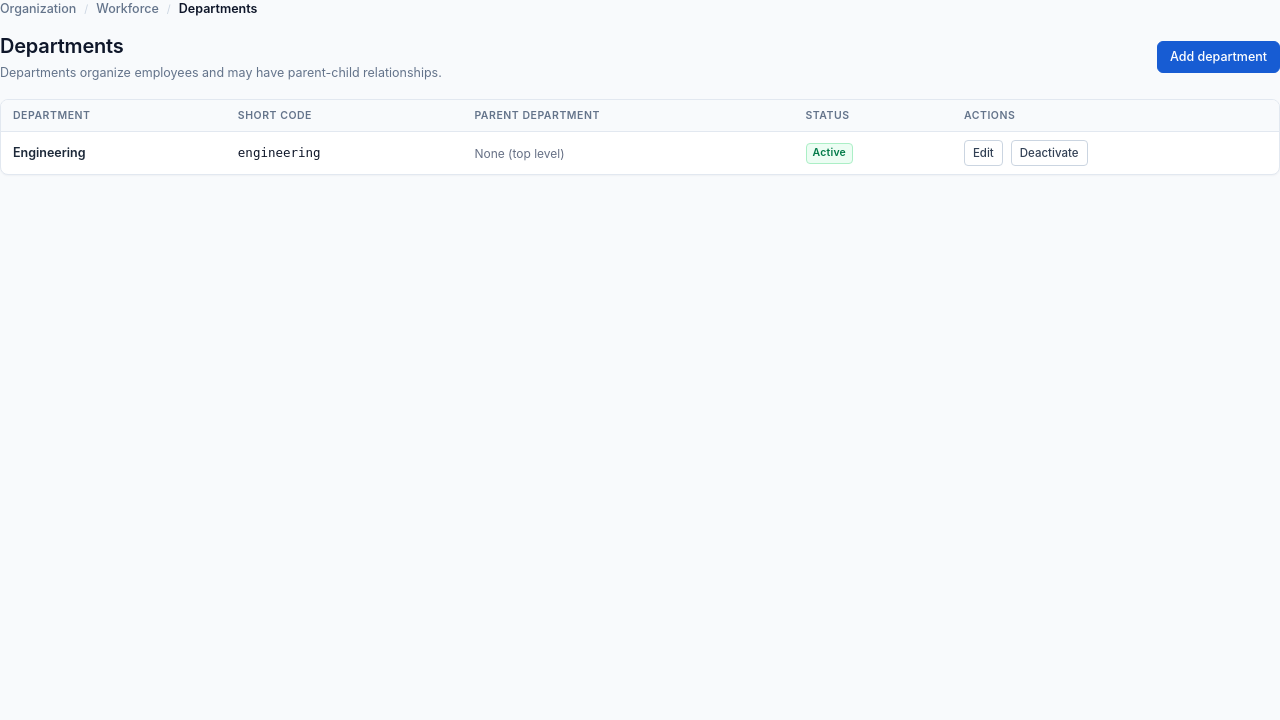
departments page › creates a department with auto-generated short code and optional parent
Check: the heading "Departments" is shown, box [0, 34, 124, 58]
Click the button "Add department": (1218, 57) [1157, 41, 1279, 73]
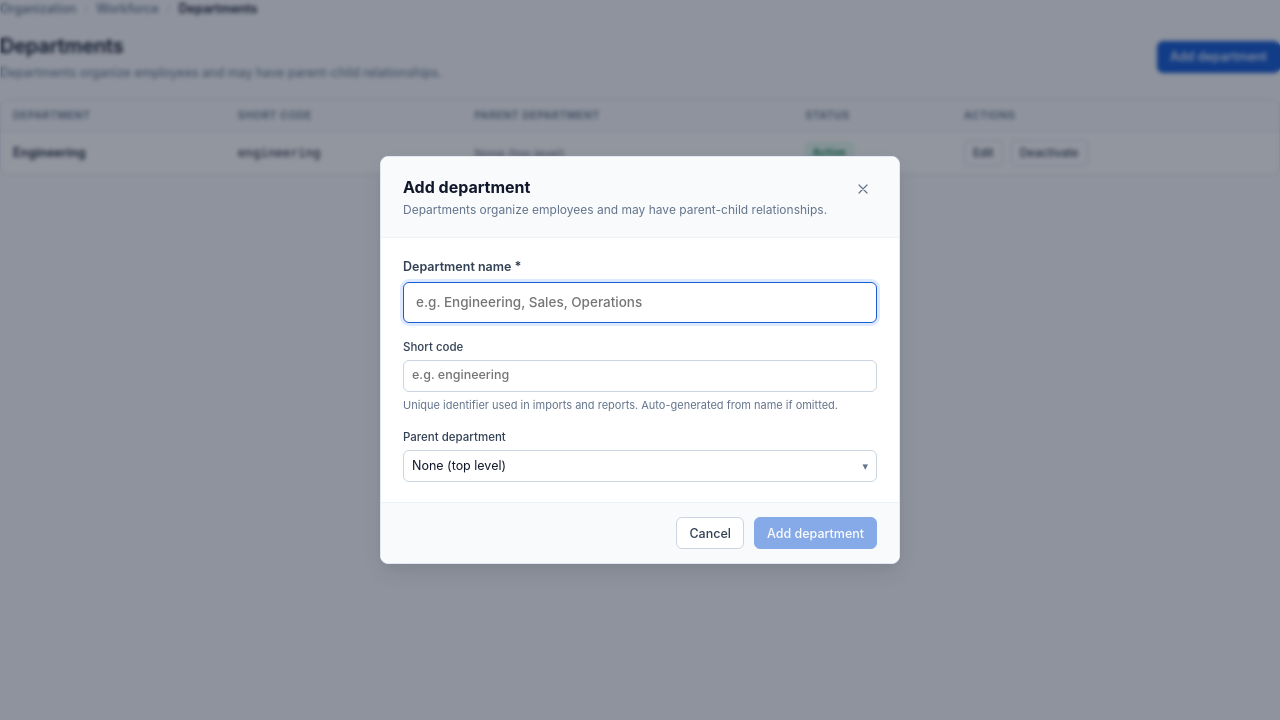
Check: the dialog is shown, box [380, 156, 900, 564]
Check: the heading "Add department" is shown, box [403, 176, 530, 196]
In the field labelled "Department name *": (640, 302) [403, 282, 877, 323], type "Quality Assurance"
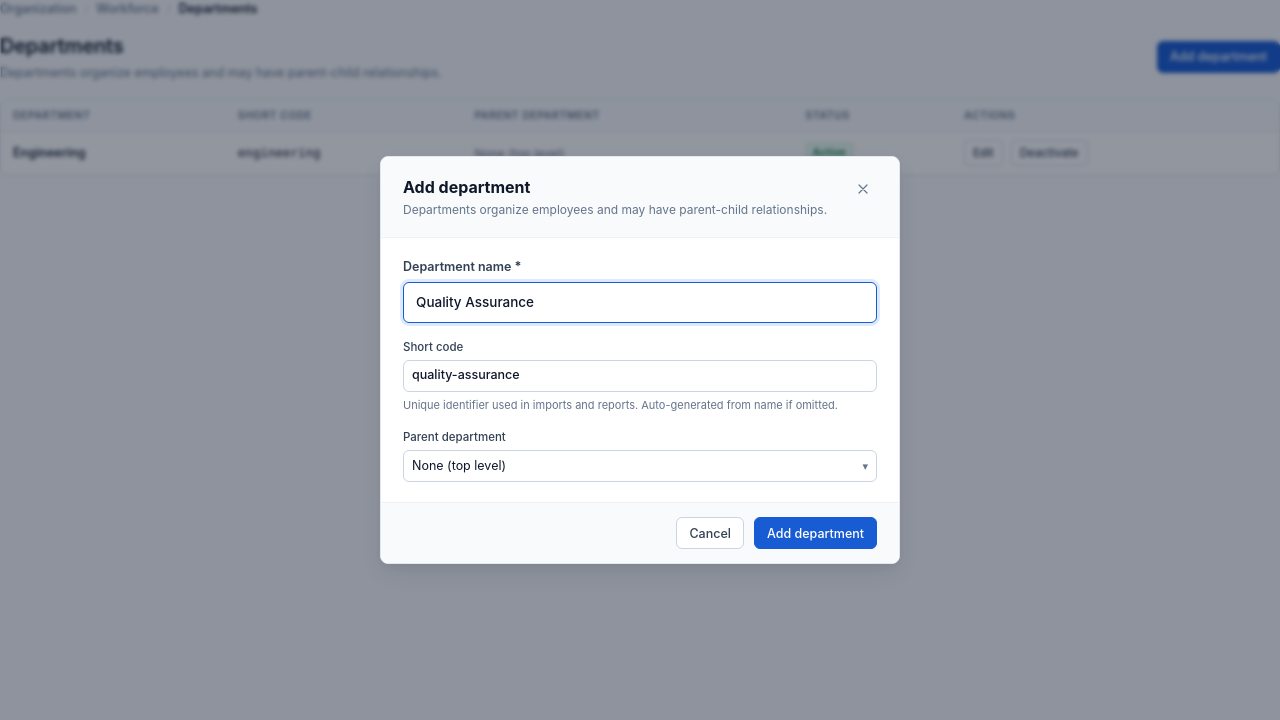
Check: the field labelled "Short code" holds "quality-assurance", box [403, 360, 877, 392]
Click the dropdown named "Parent department": (459, 466) [403, 450, 877, 482]
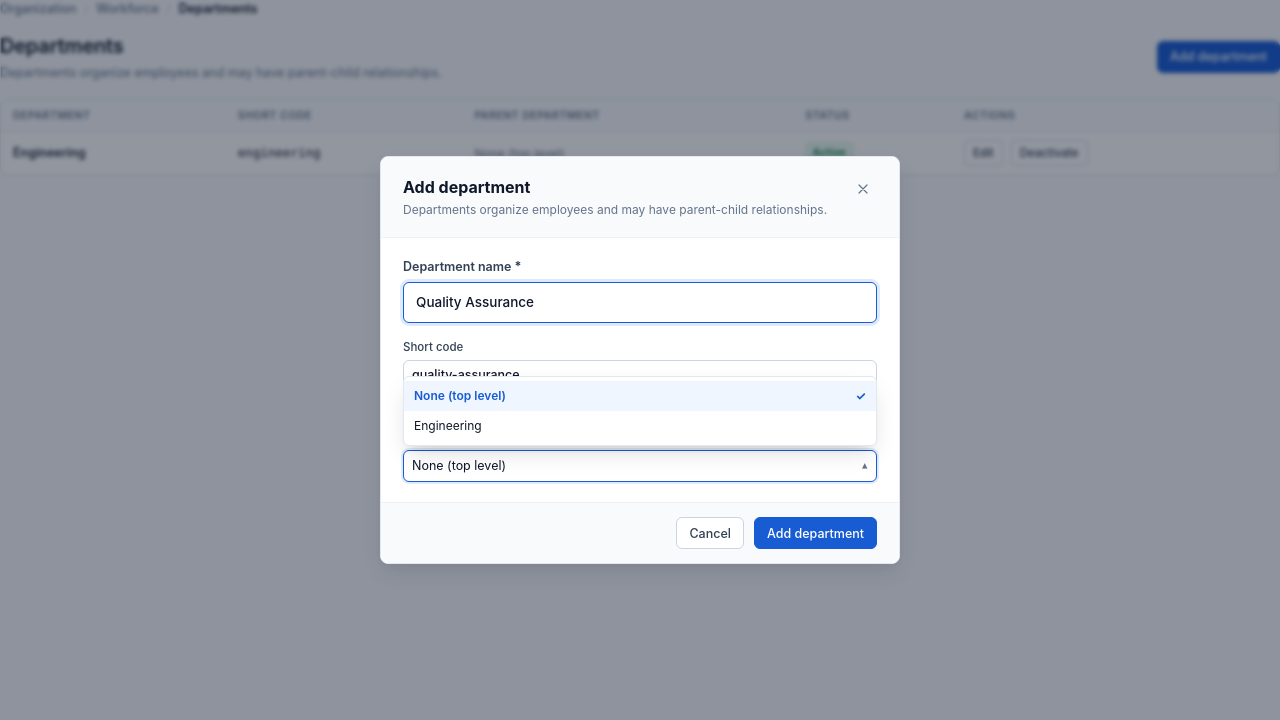
Click the option "Engineering": (448, 426) [414, 418, 482, 433]
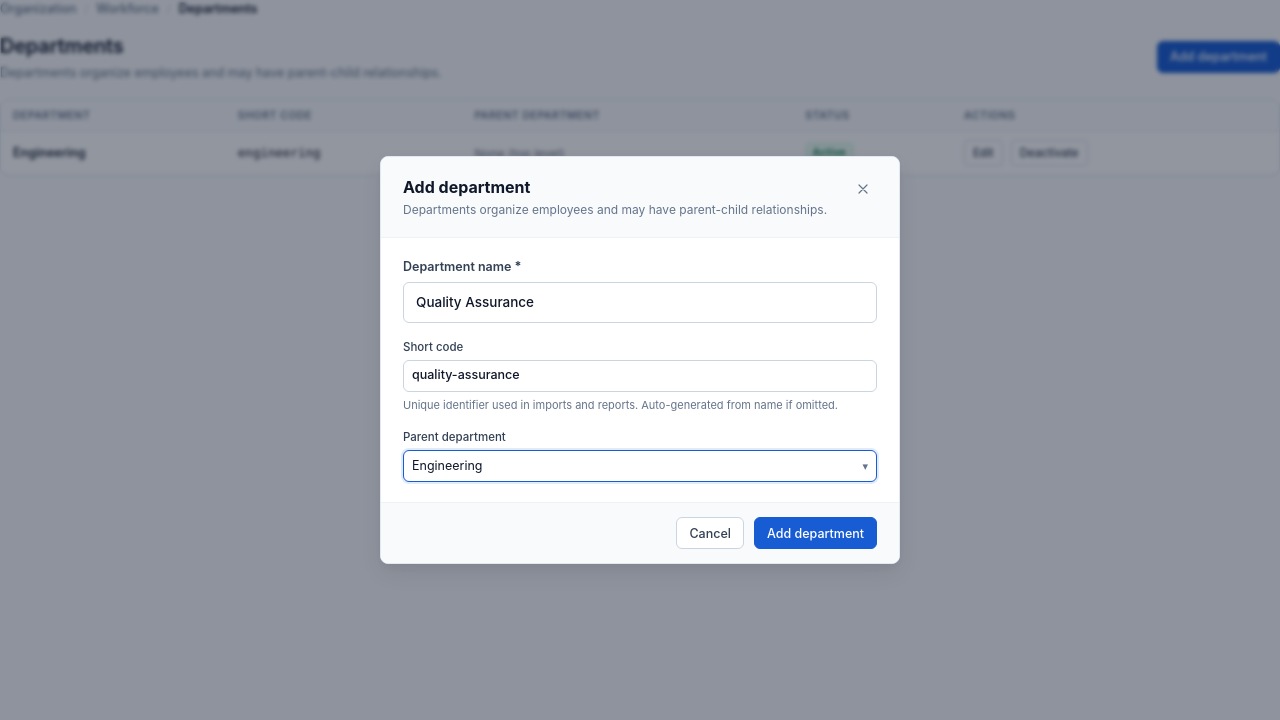
Click the button "Add department": (815, 533) [754, 517, 877, 549]
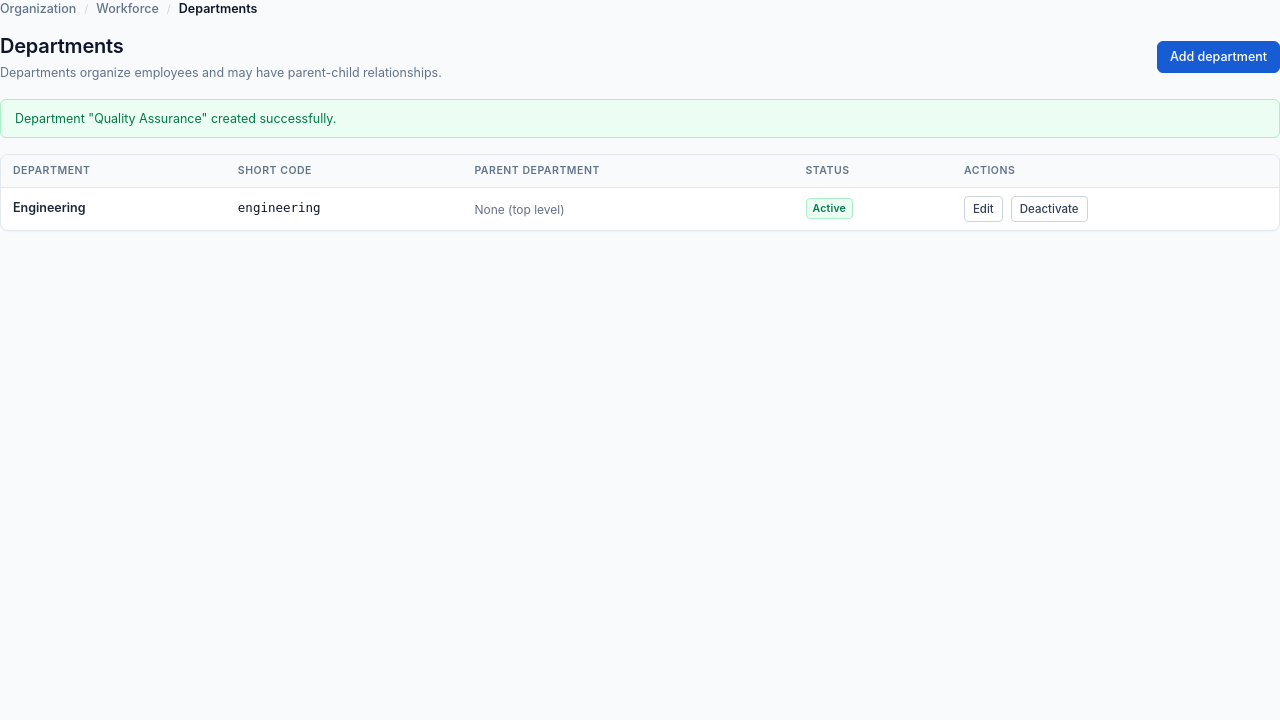
Check: the text "Department \"Quality Assurance\" created successfully." is shown, box [0, 98, 1279, 138]
